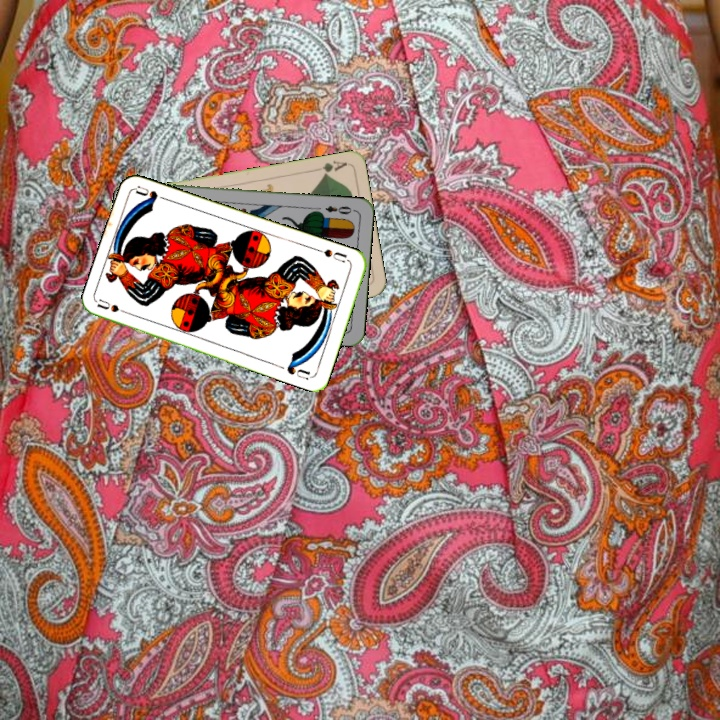EO: (321, 201, 357, 217)
GA: (318, 156, 350, 179)
SU: (94, 295, 135, 318), (313, 245, 352, 265)
